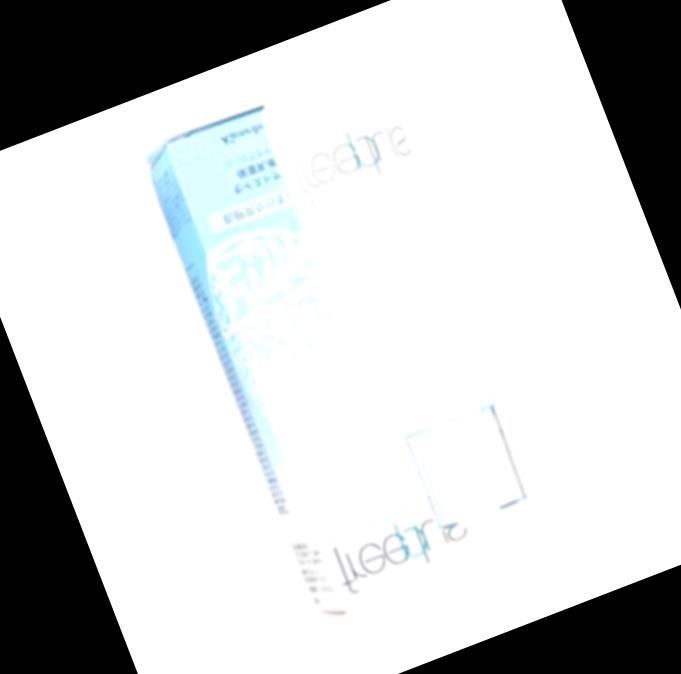cosmetic: (251, 51, 553, 543)
